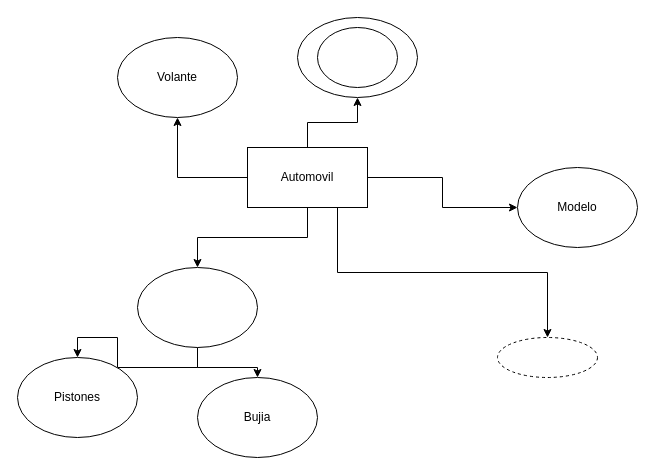
This 655x475 diagram has some shape labels left out. The box of each missing label's shape, as (x1, y1, x2, y2) in pixels:
Attribute: (496, 336, 598, 378)
Llantas: (316, 26, 398, 88)
Motor: (136, 266, 258, 348)
